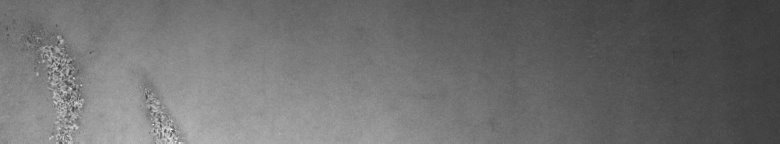hc: (6, 20, 180, 136)
